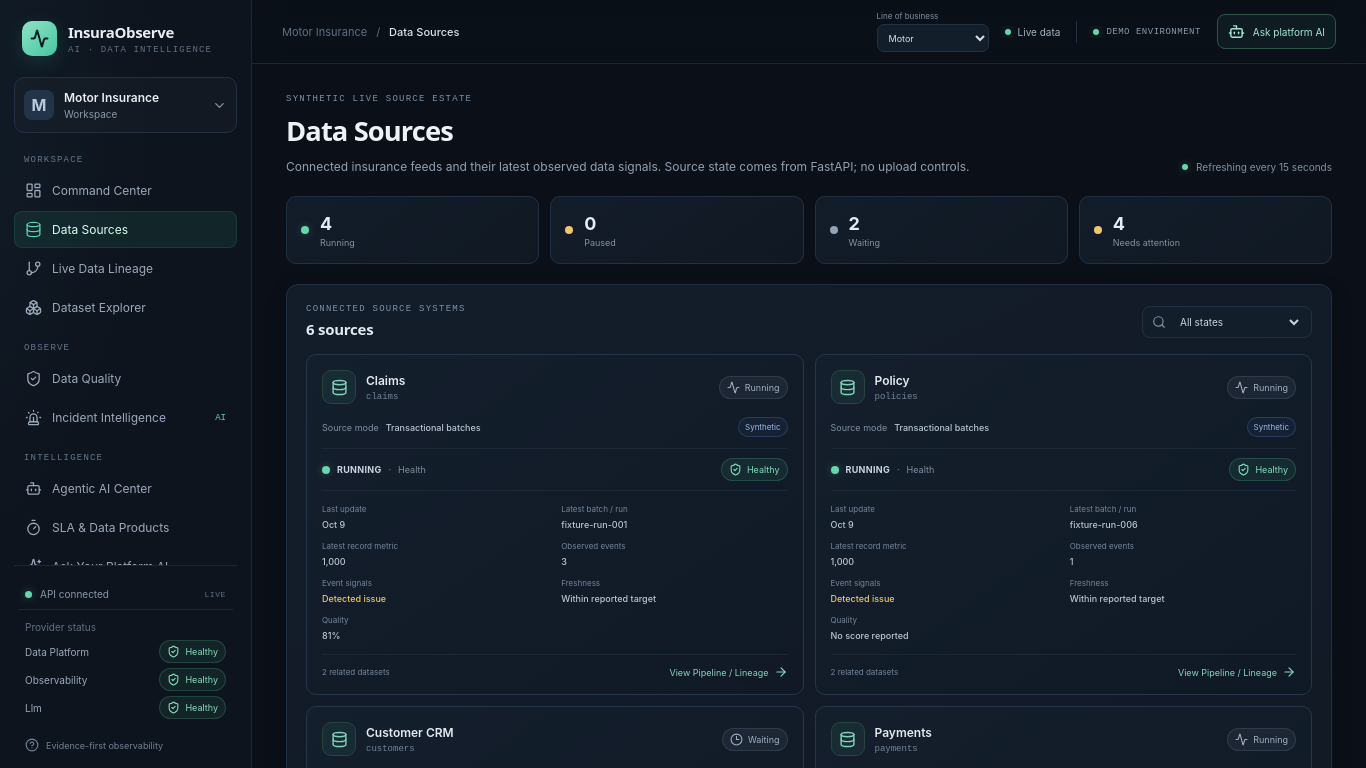
it: frontend route shell › renders synthetic source cards with evidence-backed live state and filtering
Expected: the heading "Data Sources" is shown, 286,112 -> 453,149
Expected: the heading "Claims" is shown, 366,373 -> 405,388
Select "Needs attention" in the dropdown named "Filter data sources" at x=1237, y=322, box 1172,307 -> 1302,337
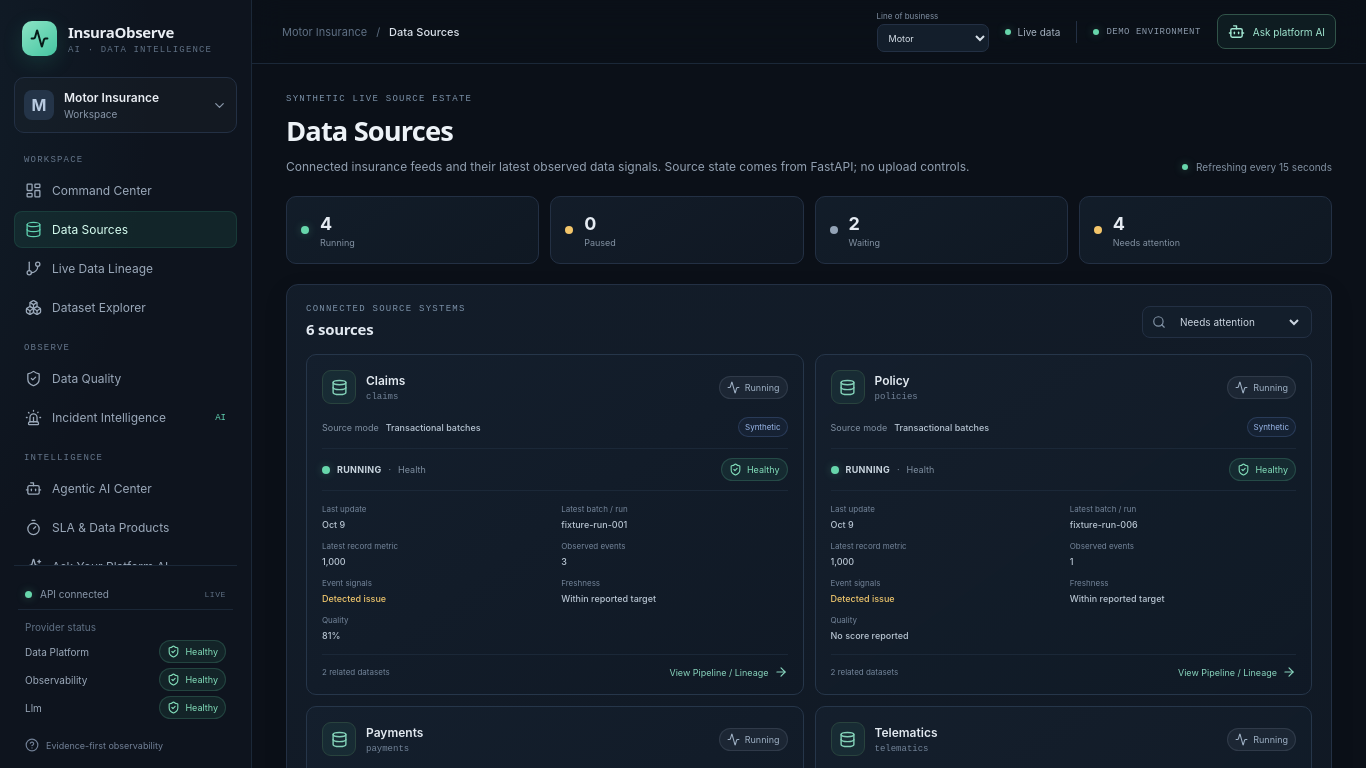
Expected: the heading "Claims" is shown, 366,373 -> 405,388
Expected: the heading "Customer CRM" is gone
